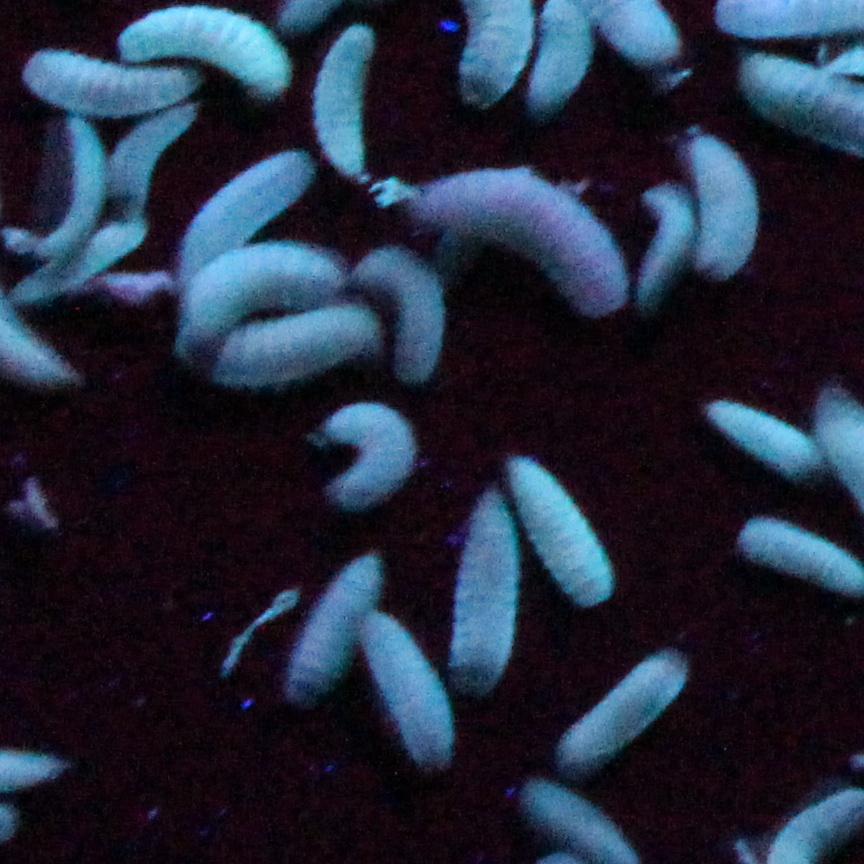larve: (403, 163, 619, 308), (558, 640, 693, 765), (174, 246, 342, 338), (127, 10, 292, 102), (507, 453, 609, 600), (354, 612, 450, 767), (184, 157, 315, 269), (217, 300, 376, 389), (295, 553, 380, 699), (13, 216, 154, 302), (27, 51, 205, 114), (356, 253, 442, 373), (458, 487, 509, 685), (688, 134, 752, 285), (335, 402, 415, 512), (109, 112, 197, 212), (699, 402, 813, 473), (319, 26, 366, 175), (641, 189, 686, 304)
